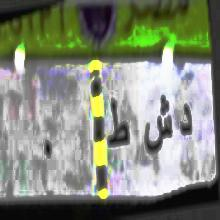0: (38, 127, 59, 180)
Taa: (104, 98, 132, 158)
daal: (176, 94, 194, 148)
sheen: (143, 93, 172, 168)
